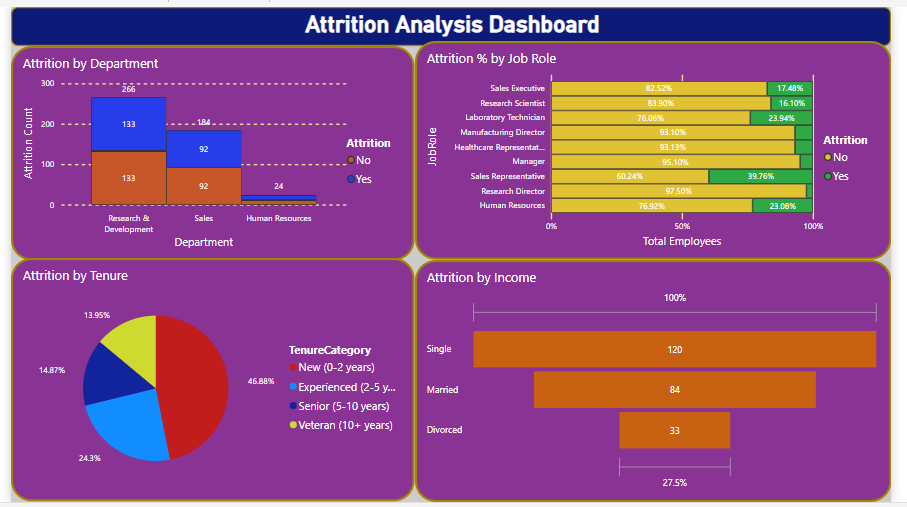

What the dashboard file says about the page in this screenshot:
{"tool":"powerbi","page":{"name":"Attrition Analysis","canvas":[1280,720],"ordinal":1},"visuals":[{"type":"columnChart","title":"Attrition by Department","fields":{"Category":["WA_Fn-UseC_-HR-Employee-Attriti.Department"],"Y":["WA_Fn-UseC_-HR-Employee-Attriti.Attrition Count"],"Series":["WA_Fn-UseC_-HR-Employee-Attriti.Attrition"]},"box":[0,56.7,586.8,311.8],"z":0},{"type":"textbox","title":"Attrition Analysis Dashboard","box":[0,0,1280,56.7],"z":1000},{"type":"hundredPercentStackedBarChart","title":"Attrition % by Job Role","fields":{"Y":["WA_Fn-UseC_-HR-Employee-Attriti.Total Employees"],"Category":["WA_Fn-UseC_-HR-Employee-Attriti.JobRole"],"Series":["WA_Fn-UseC_-HR-Employee-Attriti.Attrition"]},"box":[587.1,50,692.9,317.6],"z":2000},{"type":"pieChart","title":"Attrition by Tenure","fields":{"Category":["WA_Fn-UseC_-HR-Employee-Attriti.TenureCategory"],"Y":["WA_Fn-UseC_-HR-Employee-Attriti.Attrition Rate (%)"]},"box":[0,365.7,587.1,354.2],"z":3000},{"type":"funnel","title":"Attrition by Income","fields":{"Y":["WA_Fn-UseC_-HR-Employee-Attriti.Attrition Count"],"Category":["WA_Fn-UseC_-HR-Employee-Attriti.MaritalStatus"]},"box":[587.1,367.6,692.9,352.2],"z":3003}]}

Visuals, with their boxes in screenshot pixels (x1, y1, x2, y2), scaled from the page's 1280x720 canvas onto the 907x507 screenshot:
"Attrition by Department" columnChart: [0, 40, 416, 259]
"Attrition Analysis Dashboard" textbox: [0, 0, 906, 40]
"Attrition % by Job Role" hundredPercentStackedBarChart: [416, 35, 906, 259]
"Attrition by Tenure" pieChart: [0, 258, 416, 506]
"Attrition by Income" funnel: [416, 259, 906, 506]
